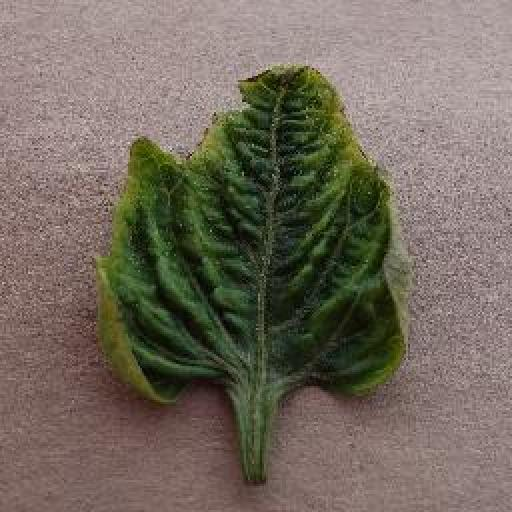Yellow Leaf Curl Virus: (94, 62, 410, 406)
